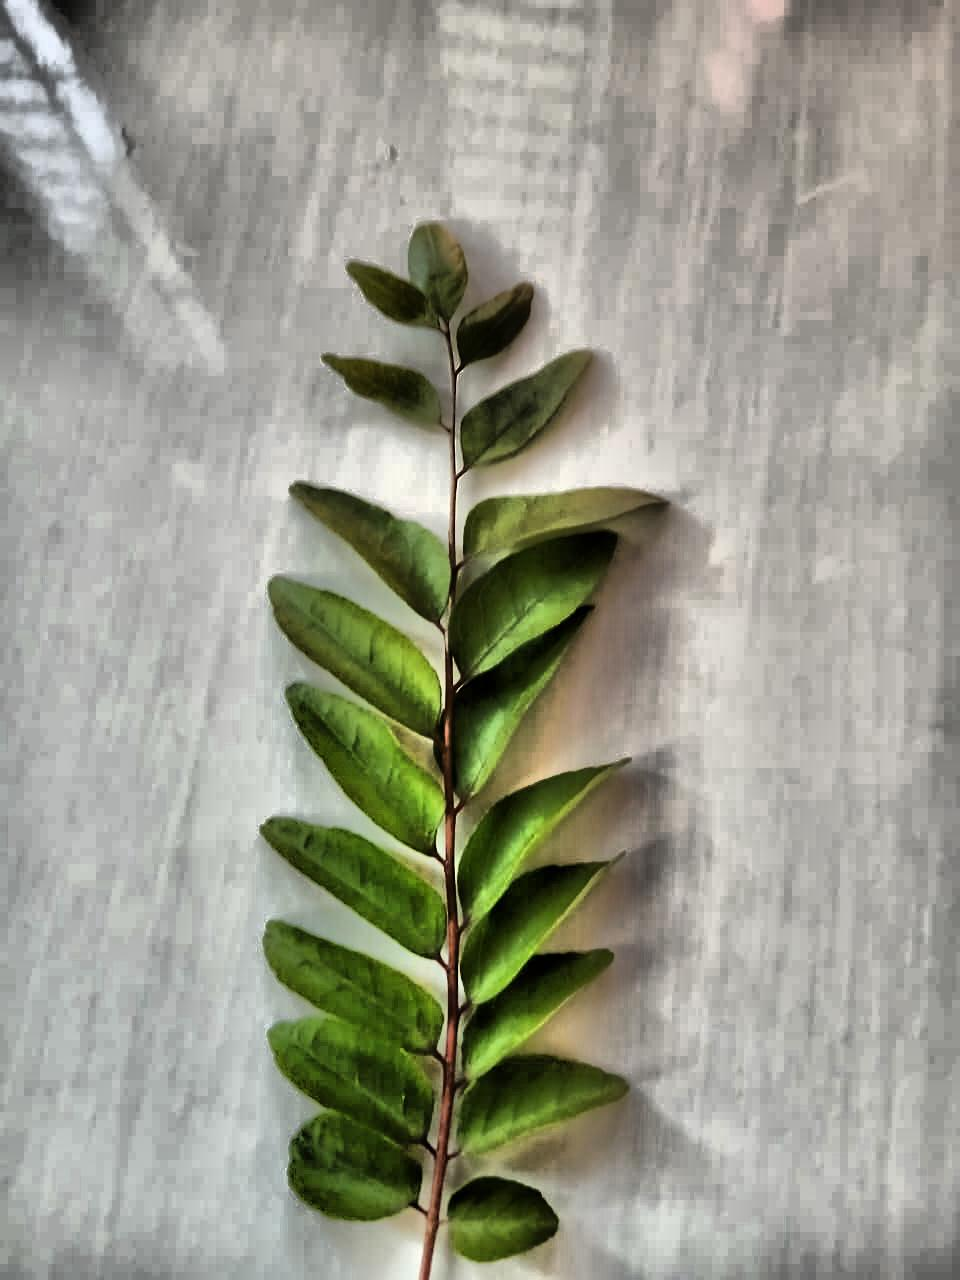daun kari: (261, 223, 636, 1279)
